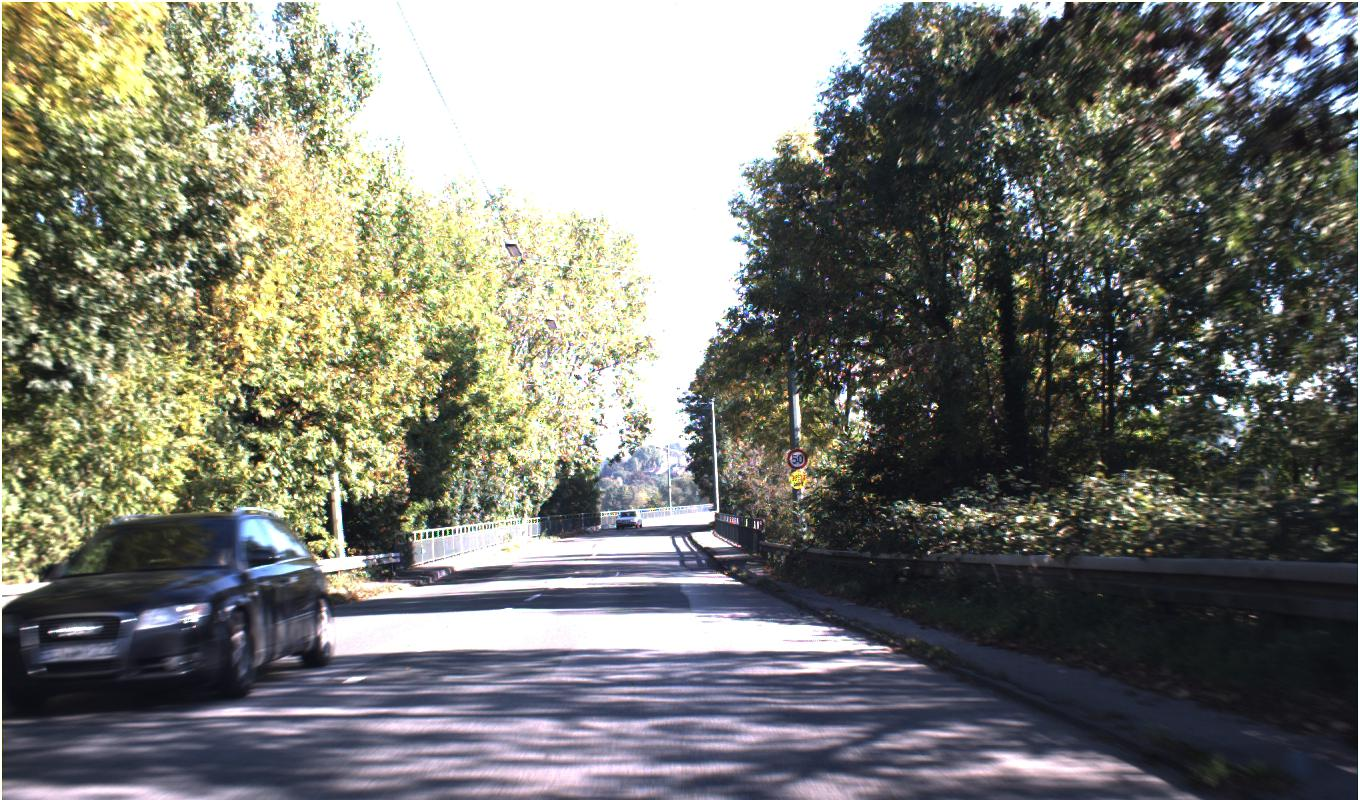prohibitory: (786, 447, 808, 470)
